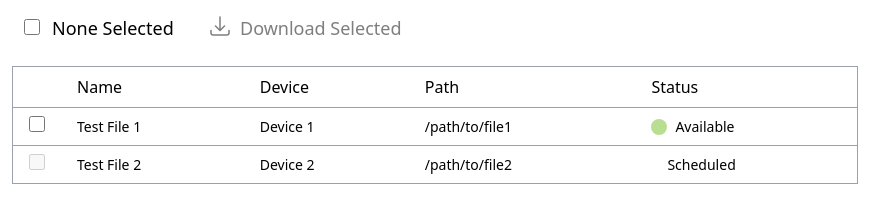
Test case: FileTable › handles select all functionality
Click the checkbox named "Select all available files". click: (32, 27)
box: 24,19 -> 40,35
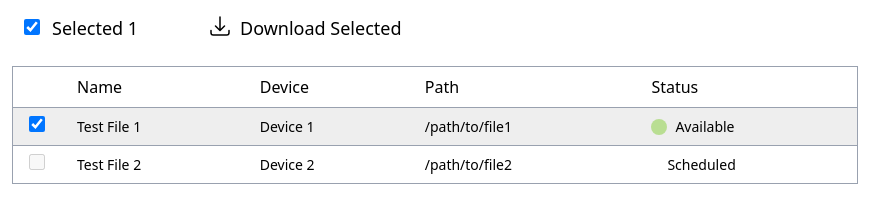
expect the text "Selected 1" is shown: met, box 52,16 -> 138,40
